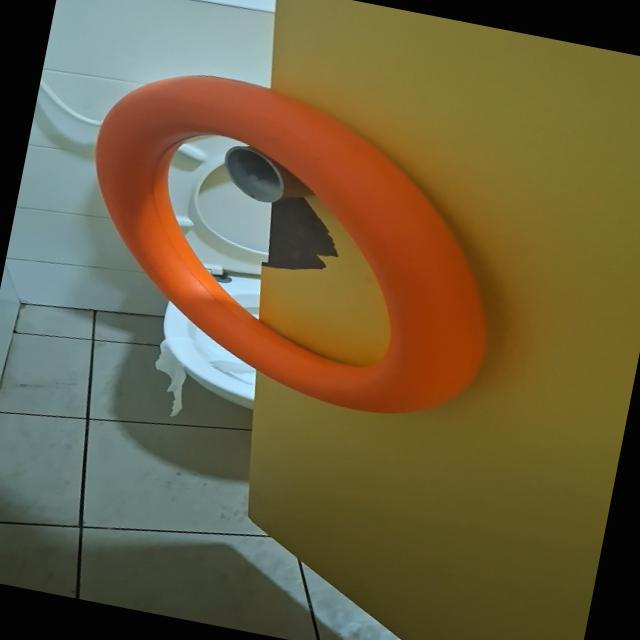note: (53, 54, 530, 436)
